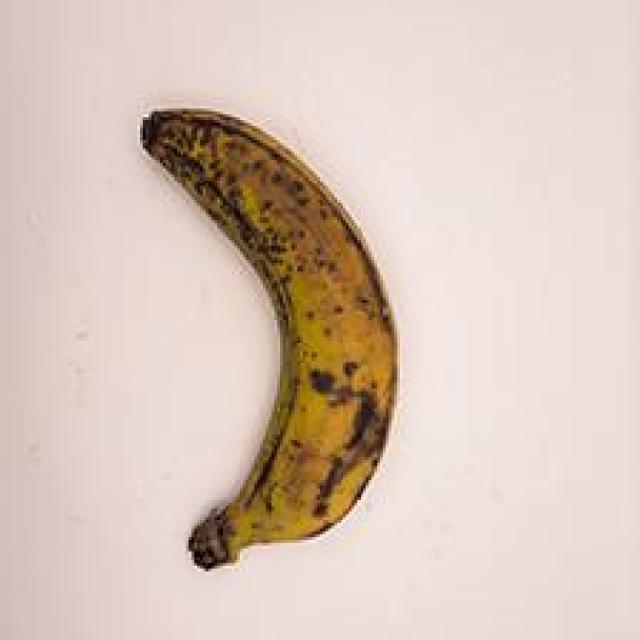Overripe: (84, 76, 434, 590)
